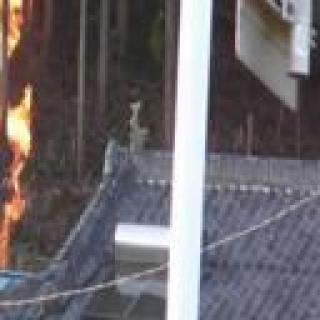fire: (0, 0, 38, 266)
